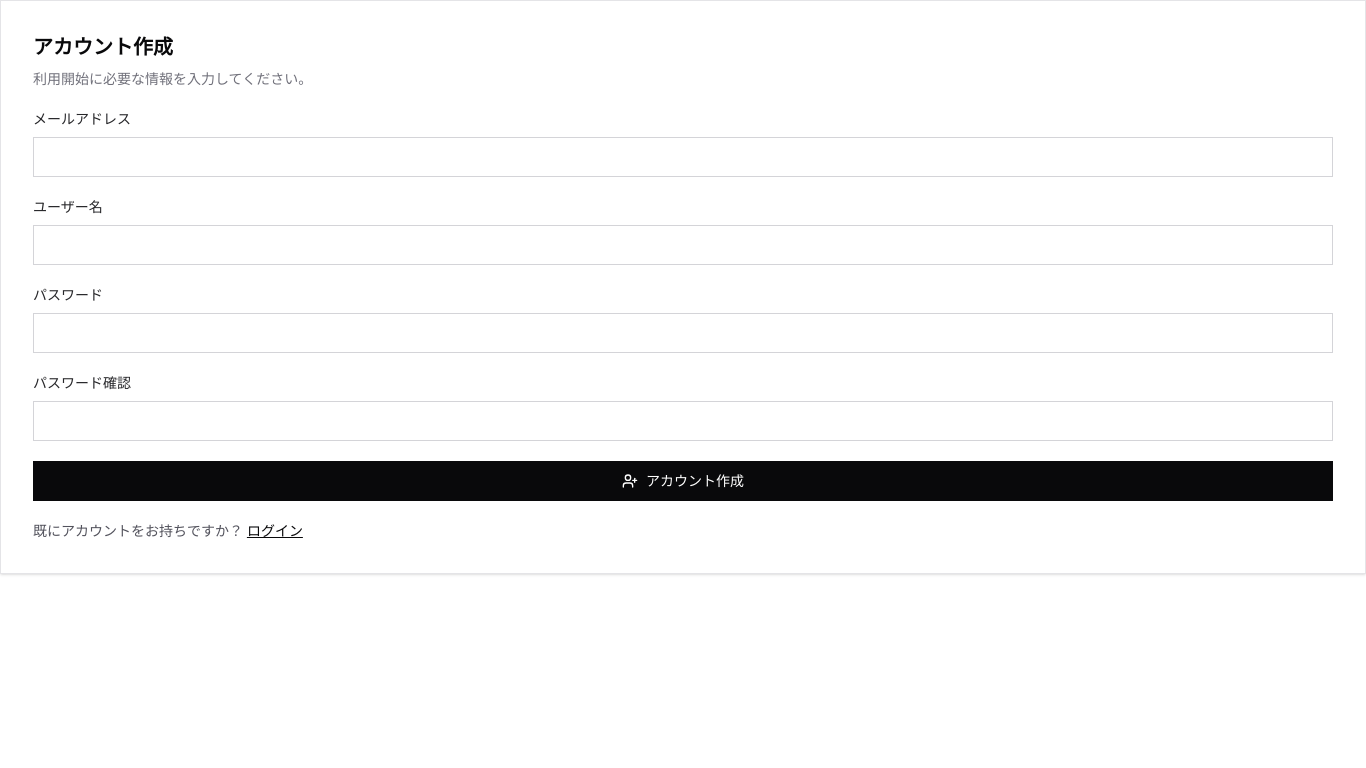
Test: AccountSignupForm › Server Action の fieldErrors を項目に反映する
Type "user@example.com" into the field labelled "メールアドレス" at x=683, y=157, box [33,137,1333,177]
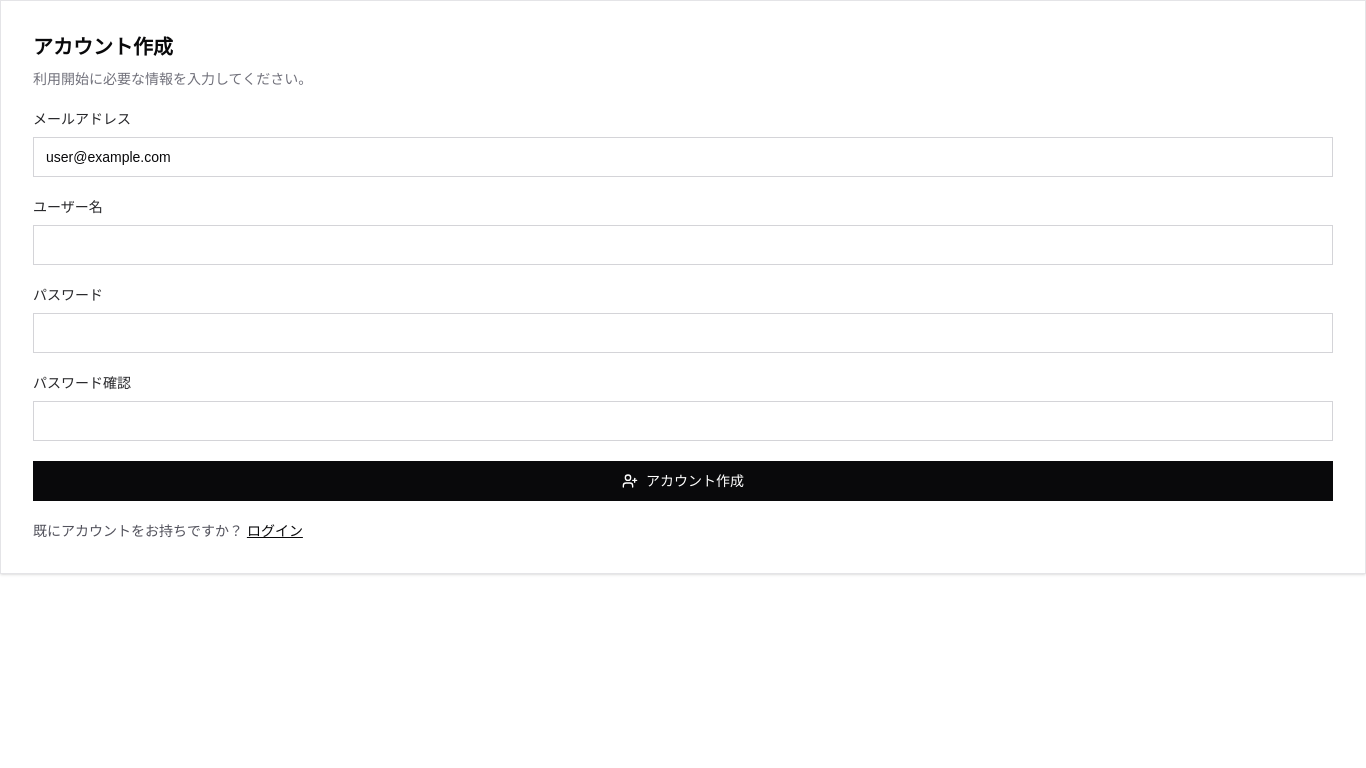
Type "山田太郎" into the field labelled "ユーザー名" at x=683, y=245, box [33,225,1333,265]
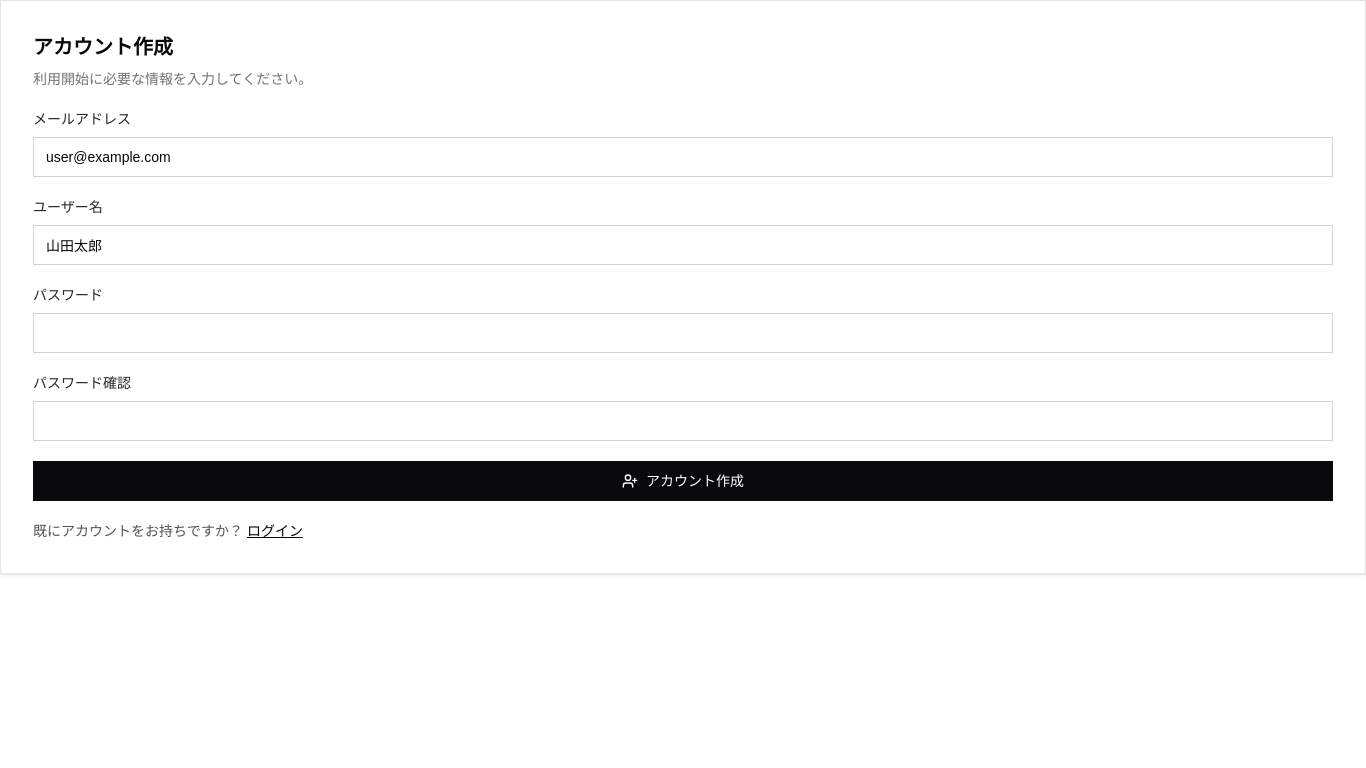
Type "password123" into the password field labelled "パスワード" at x=683, y=333, box [33,313,1333,353]
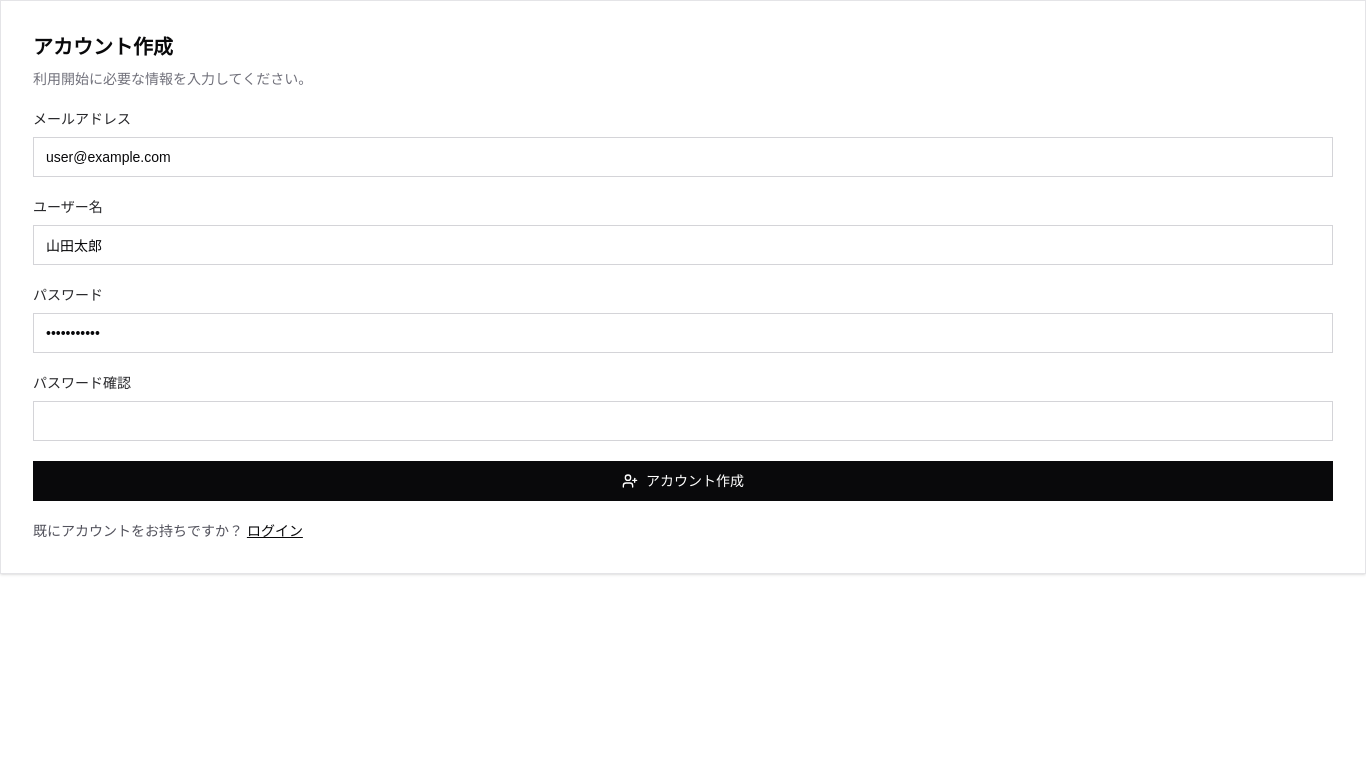
Type "password123" into the password field labelled "パスワード確認" at x=683, y=421, box [33,401,1333,441]
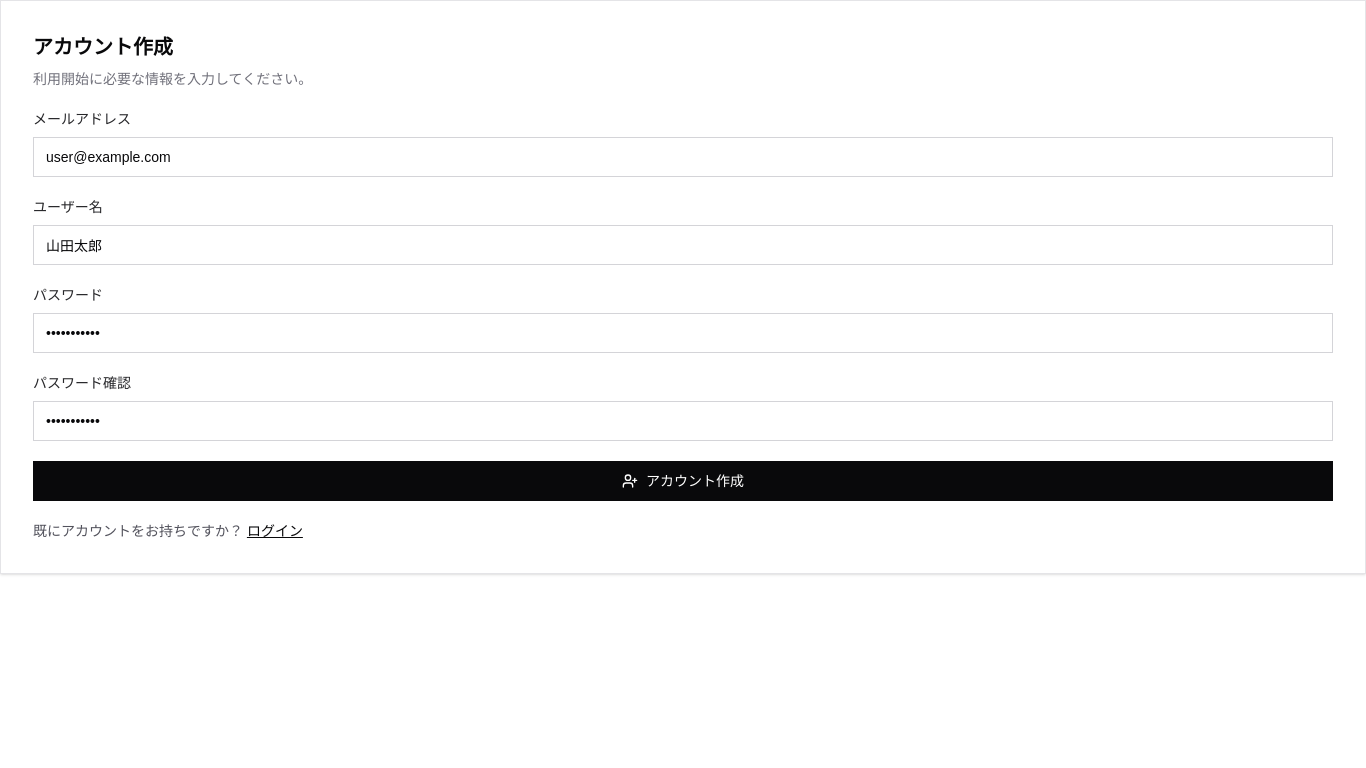
Click the button "アカウント作成" at x=683, y=481, box [33,461,1333,501]
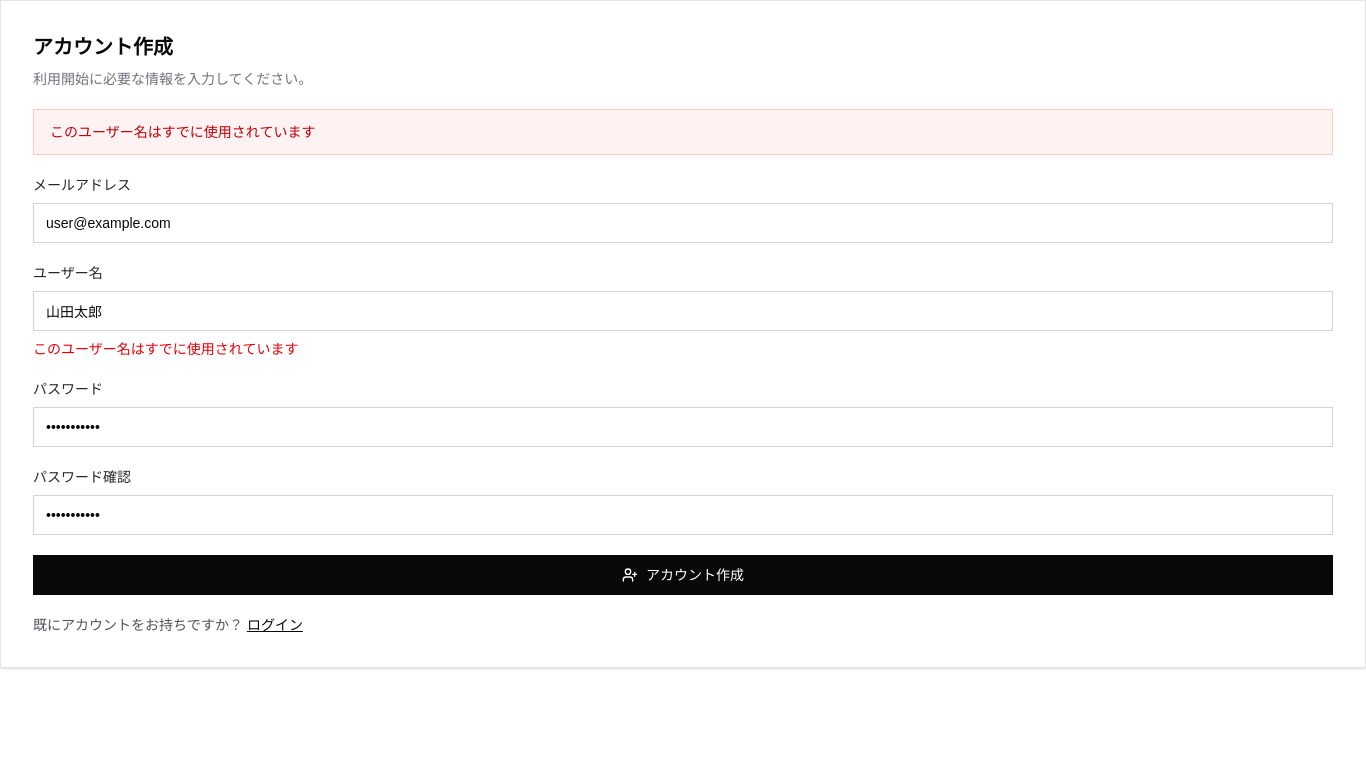
Expected: the text "このユーザー名はすでに使用されています" is shown 2 times, [33,109,1333,155]; [33,341,298,357]
